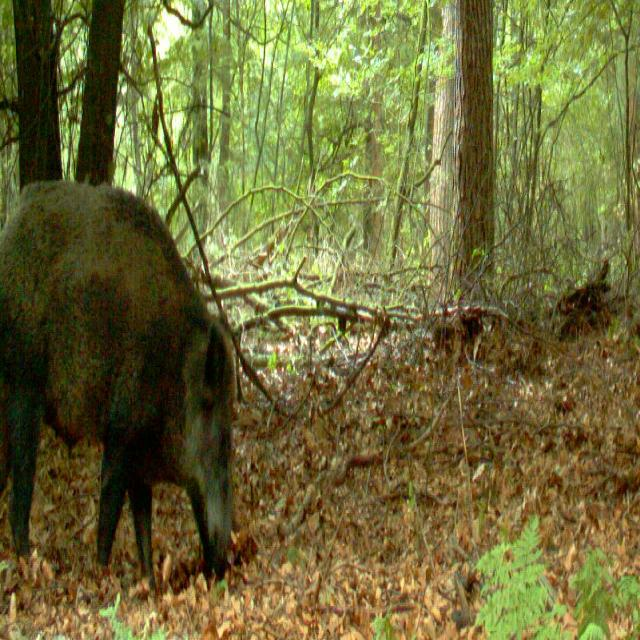pig: (0, 81, 268, 640)
